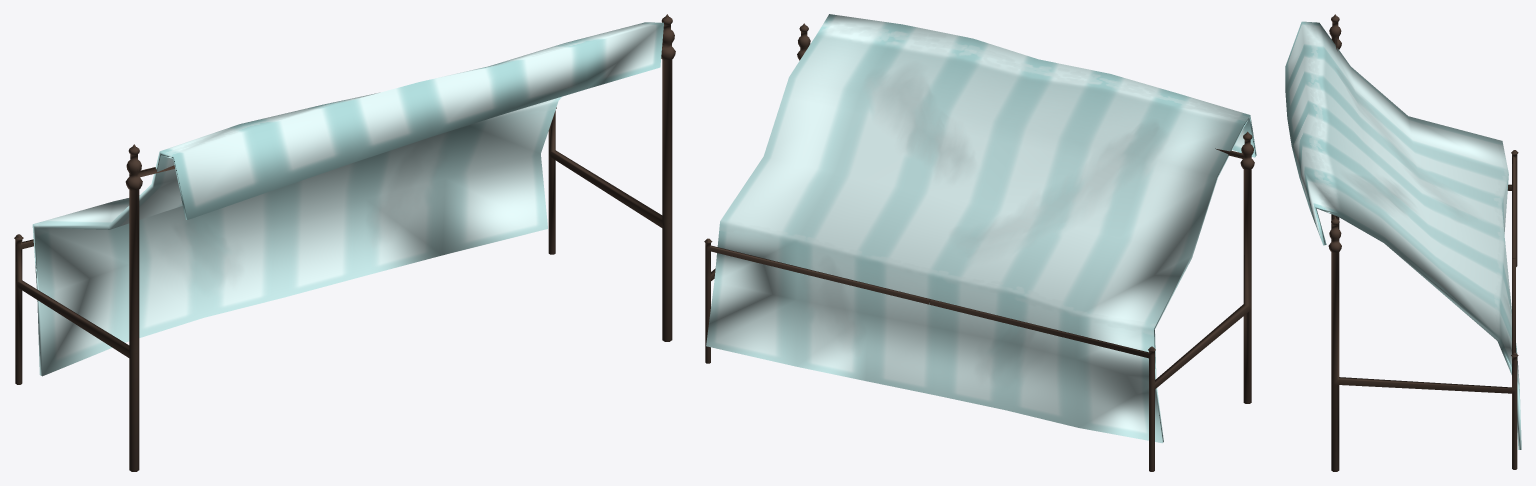
The model's file is TendaMercadorBuild.fbx.
3 renders of one model, left to right at view 1: azimuth 30°, elevation 25°; view 2: azimuth 150°, elevation 25°; view 3: azimuth 270°, elevation 25°, orthographic. The views are drawn at different scales.
Visible parts, largest first — view 1: TecidoTendaComercianteModelo, TravesTendaComercianteModelo; view 2: TecidoTendaComercianteModelo, TravesTendaComercianteModelo; view 3: TecidoTendaComercianteModelo, TravesTendaComercianteModelo.
Boxes of the visible parts, x1,y1,x2,y2 form: TecidoTendaComercianteModelo: [32, 22, 663, 376]; TravesTendaComercianteModelo: [14, 14, 675, 471]; TecidoTendaComercianteModelo: [706, 14, 1256, 443]; TravesTendaComercianteModelo: [704, 23, 1254, 471]; TecidoTendaComercianteModelo: [1285, 21, 1521, 449]; TravesTendaComercianteModelo: [1328, 14, 1518, 471].
Bounding box in the file's own units: 115 × 67.52 × 55.32.
